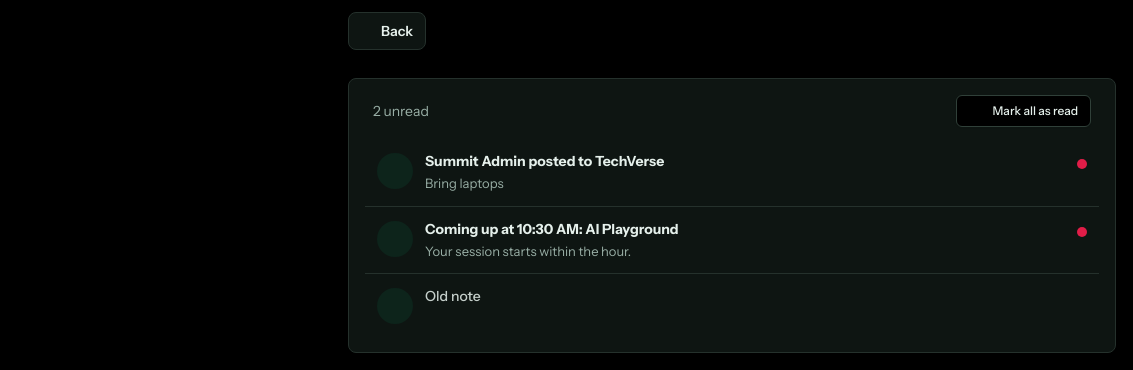
Test: Back and the bell preview › Back returns to the page the bell was clicked on
This screenshot has width=1133, height=370.
What coordinates should you click on to do the following:
click the button "Back"
I would click on:
 (387, 31)
Its box is [348,12,426,50].
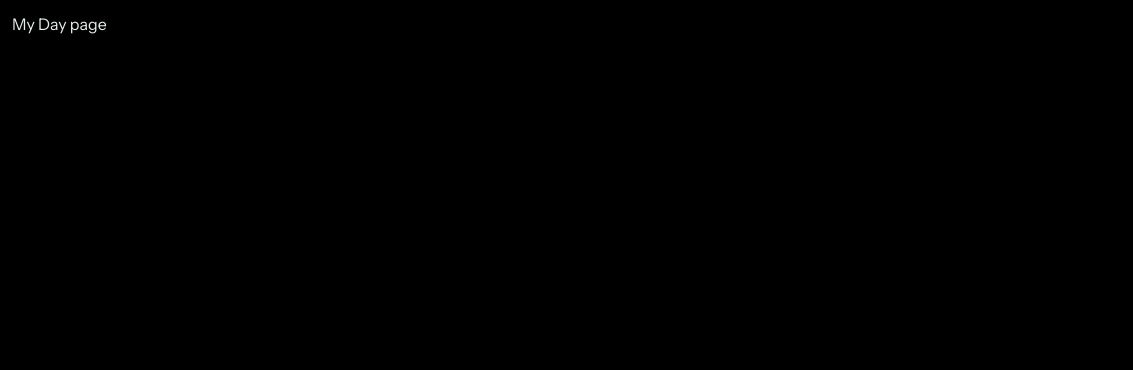
Result: the text "My Day page" is shown at [12,14,107,34]
